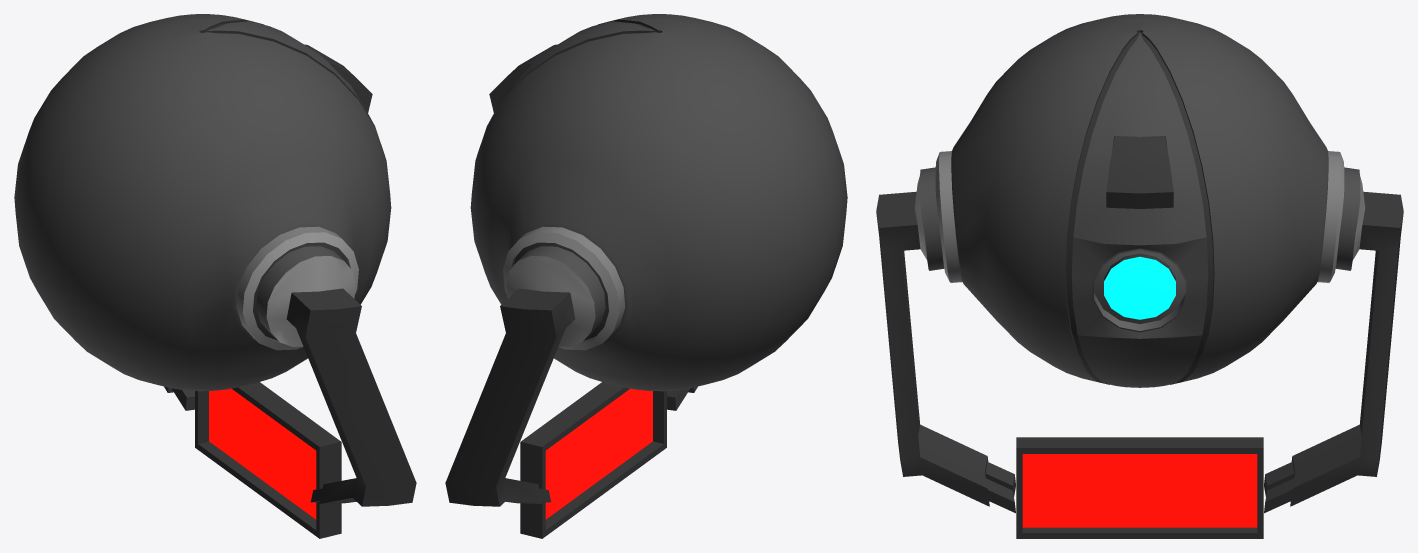
Rendered from SM_TrainDrone.fbx.
3 renders of one model, left to right at view 1: azimuth 30°, elevation 25°; view 2: azimuth 150°, elevation 25°; view 3: azimuth 270°, elevation 25°, orthographic.
Parts seen in each view (by area): view 1: SM_TrainDrone; view 2: SM_TrainDrone; view 3: SM_TrainDrone.
Boxes of the visible parts, x1,y1,x2,y2 form: SM_TrainDrone: (14, 14, 416, 538); SM_TrainDrone: (445, 14, 847, 538); SM_TrainDrone: (876, 14, 1403, 538).
Size of the model in its own units: 65.07 by 91.13 by 92.63.
